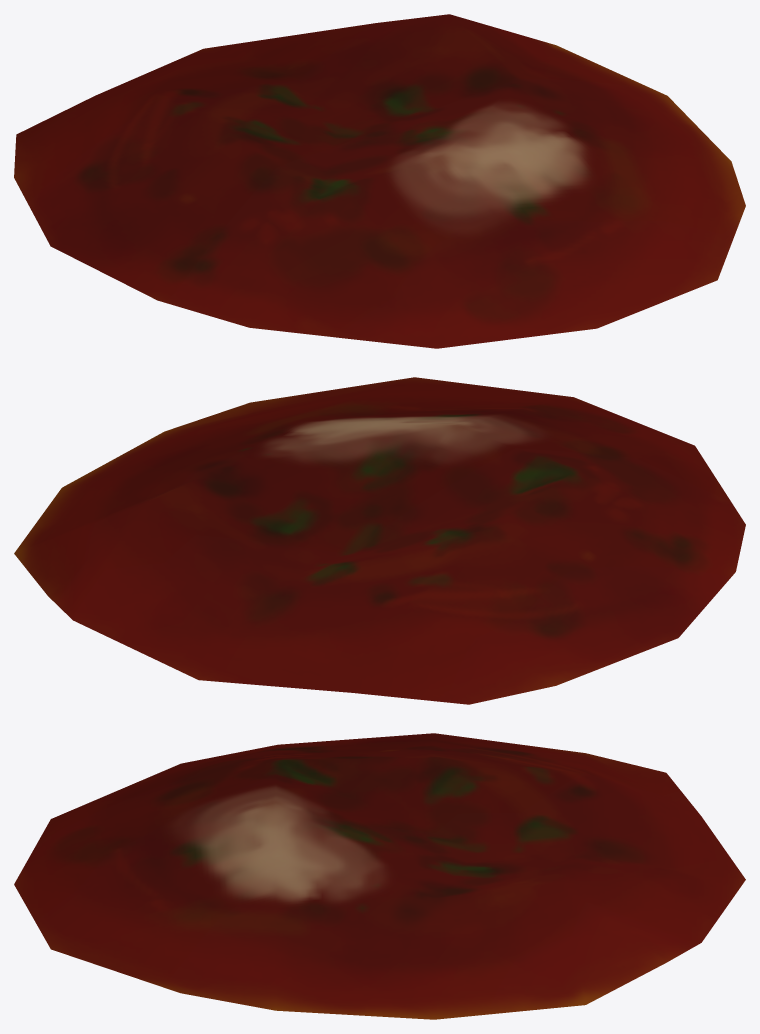
The model's file is foodmound2.fbx.
The picture shows the model from 3 angles, top to bottom: view 1: azimuth 30°, elevation 25°; view 2: azimuth 150°, elevation 25°; view 3: azimuth 270°, elevation 25°; orthographic projection. The views are drawn at different scales.
Visible parts, largest first — view 1: DinnerScene:GenericFoodMound2; view 2: DinnerScene:GenericFoodMound2; view 3: DinnerScene:GenericFoodMound2.
Part boxes in pixels (bbox=[...]): DinnerScene:GenericFoodMound2: bbox=[14, 14, 745, 348]; DinnerScene:GenericFoodMound2: bbox=[14, 377, 745, 704]; DinnerScene:GenericFoodMound2: bbox=[14, 733, 745, 1019].
Bounding box in the file's own units: 3.47 × 0.41 × 3.75.
